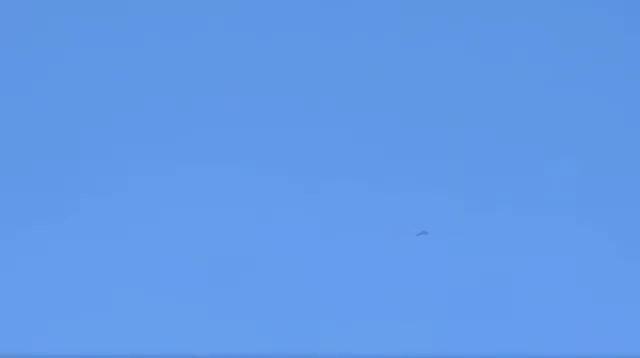shahed: (415, 229, 430, 238)
